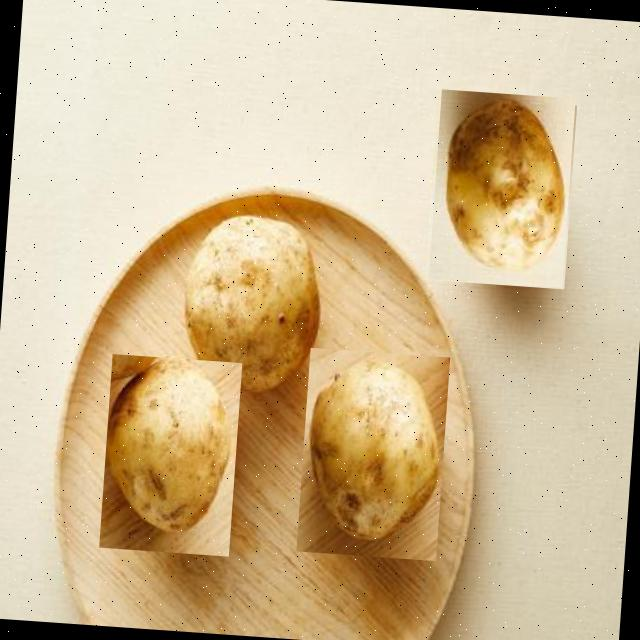Potato: (295, 348, 449, 560), (171, 202, 330, 392), (424, 95, 576, 288), (427, 89, 574, 288), (97, 354, 240, 556)
